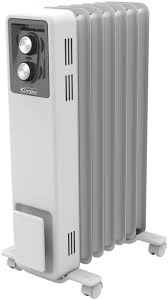Radiator: (4, 1, 167, 299)
